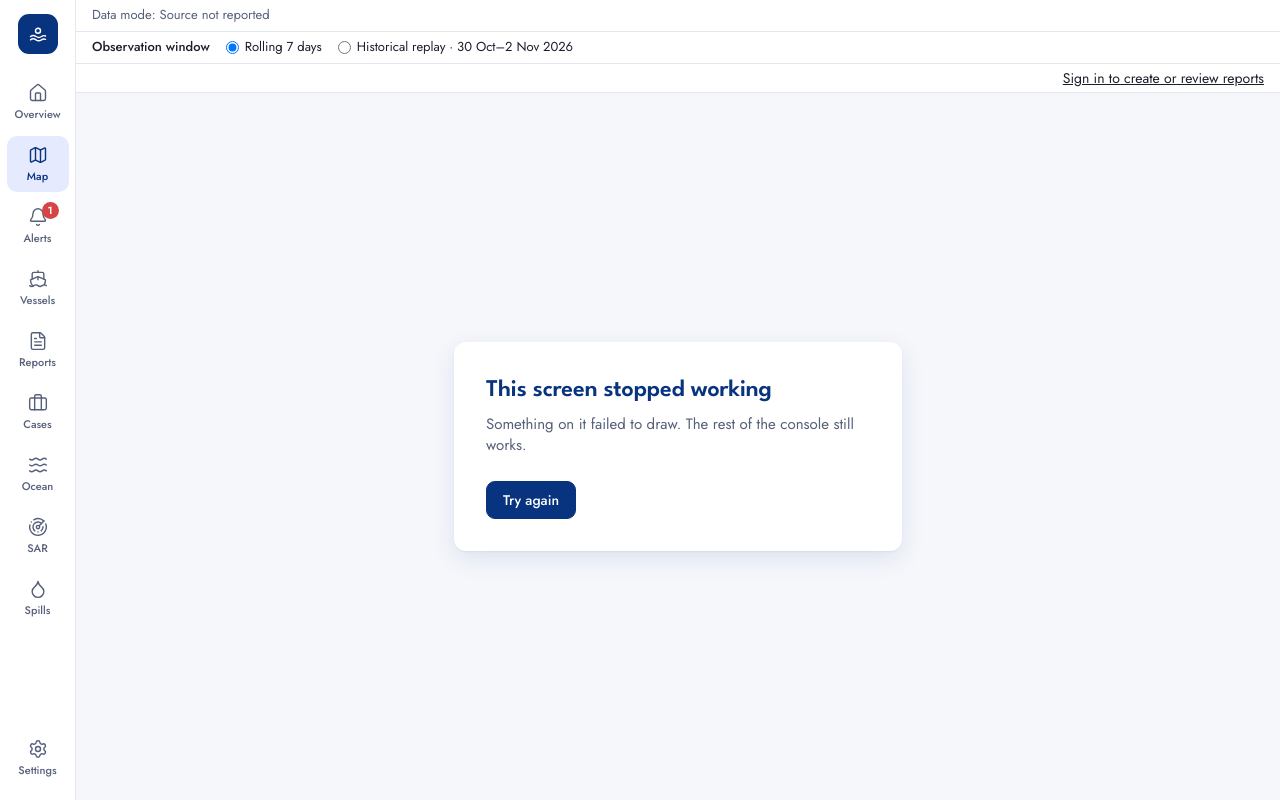
Scenario: shell › leaves the failure behind when another page is opened
Click the link "1 Alerts".
click(41, 224)  # box [24,202,58,246]
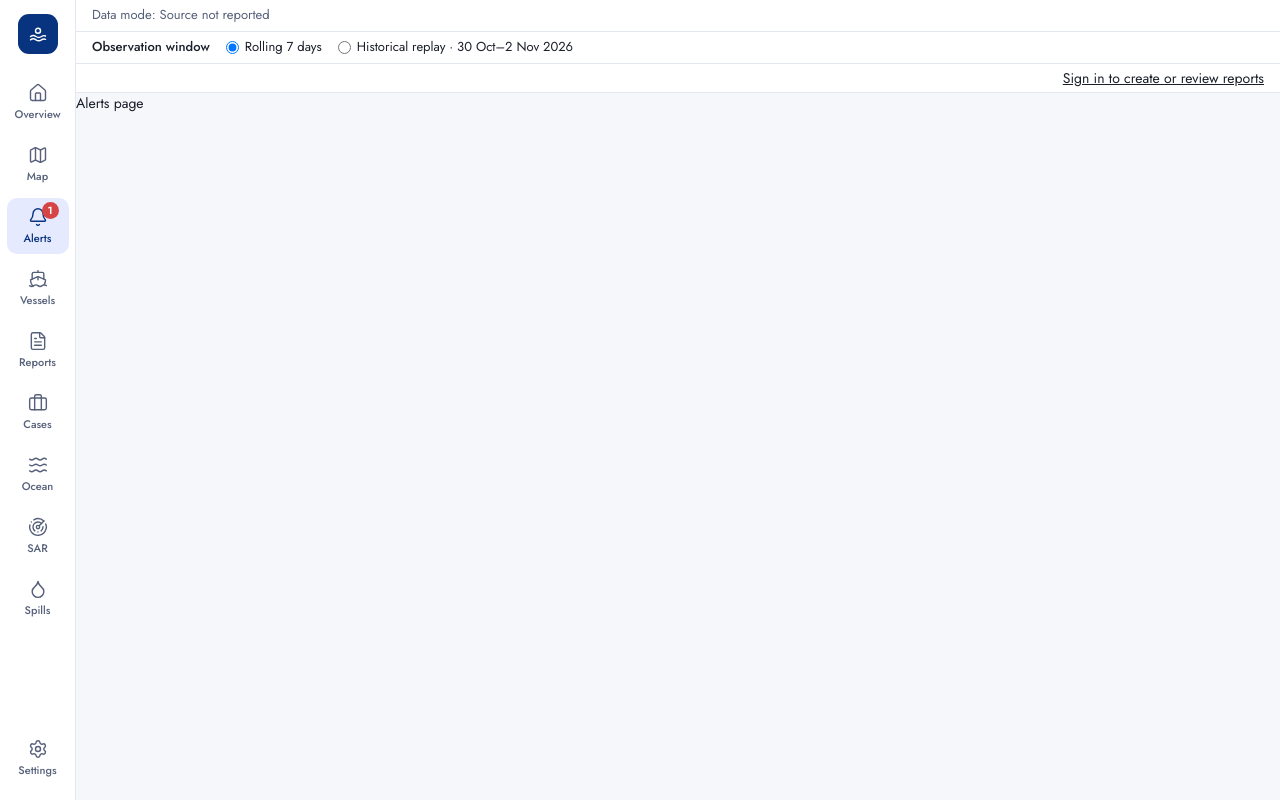
Expected: the text "Alerts page" is shown, [76,93,144,113]
